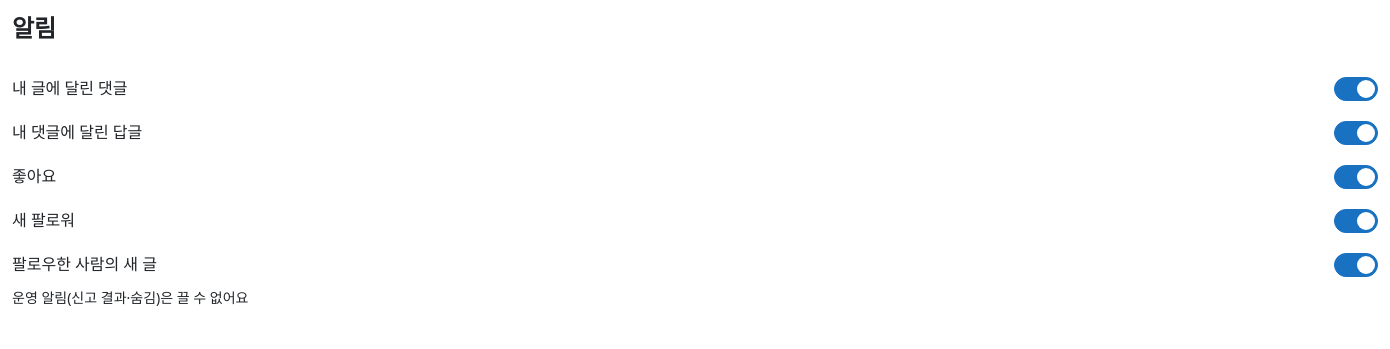
Test: NotificationSettingsSection › 실패하면 되돌리고 "잠시 후 다시 시도해 주세요"
Click the switch named "내 글에 달린 댓글" in the row of "내 글에 달린 댓글" at (1356, 89), box x1=1334 y1=77 x2=1378 y2=101
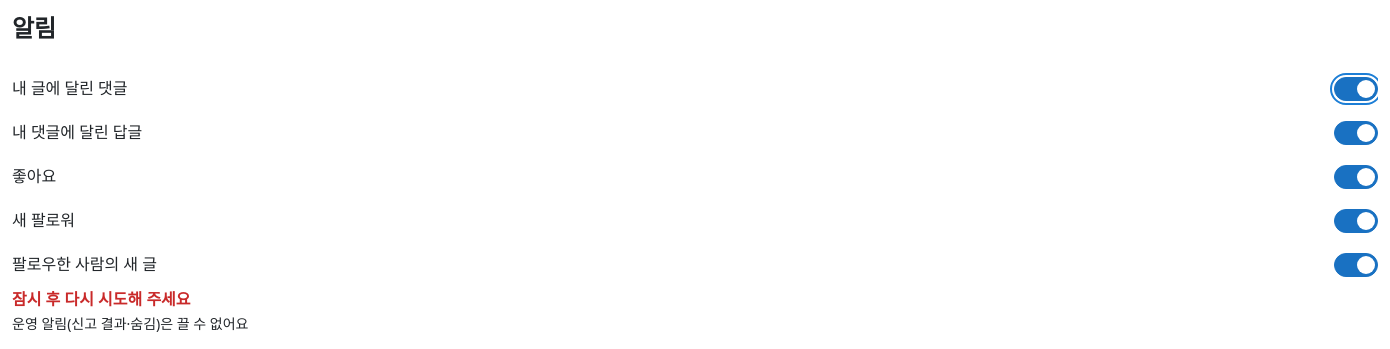
Now the message reads "잠시 후 다시 시도해 주세요", box x1=12 y1=288 x2=191 y2=310
